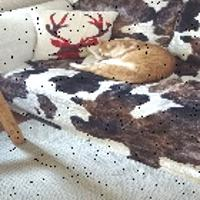asleep: (70, 37, 177, 82)
